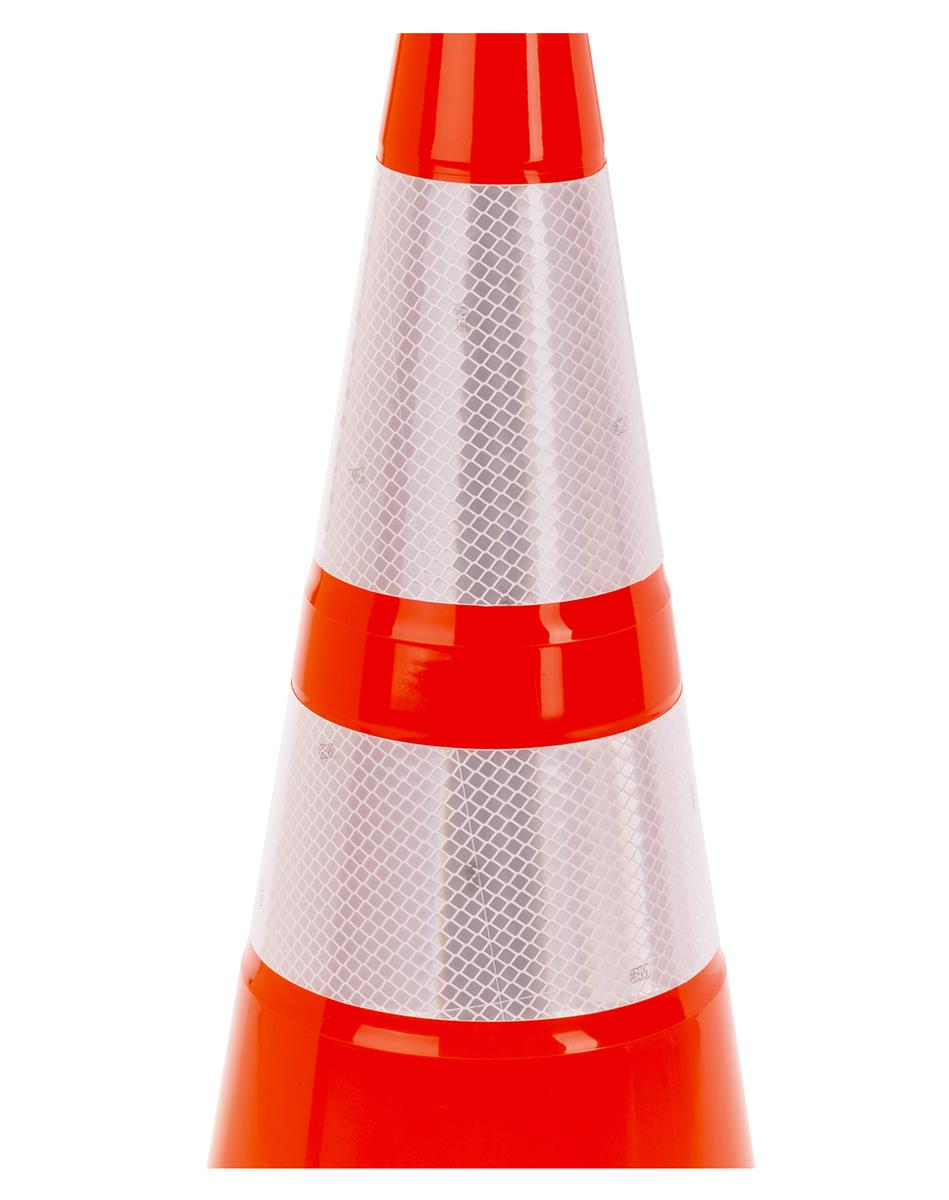cones: (197, 24, 768, 1170)
